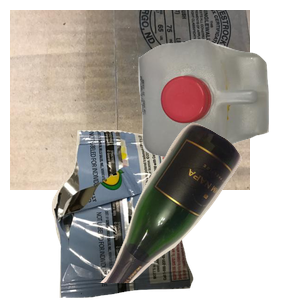cardboard: (10, 10, 250, 190)
glass: (87, 120, 300, 300)
plastic: (136, 37, 300, 188)
trash: (49, 130, 235, 300)
